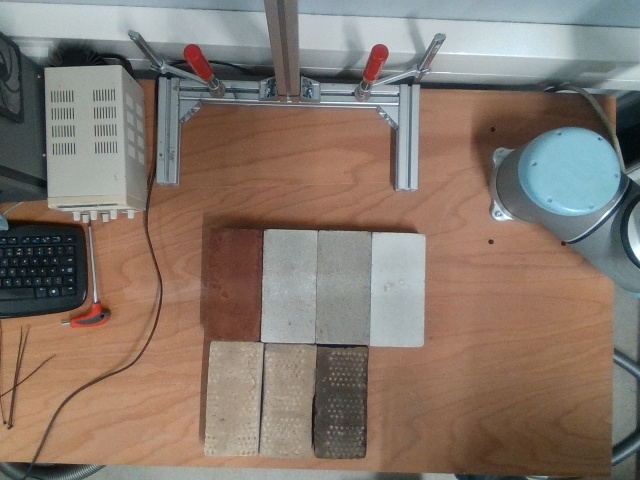brick: (207, 342, 261, 454), (262, 231, 315, 342), (317, 233, 369, 343), (205, 231, 259, 336), (315, 349, 366, 456), (263, 348, 312, 456), (373, 238, 422, 343)
